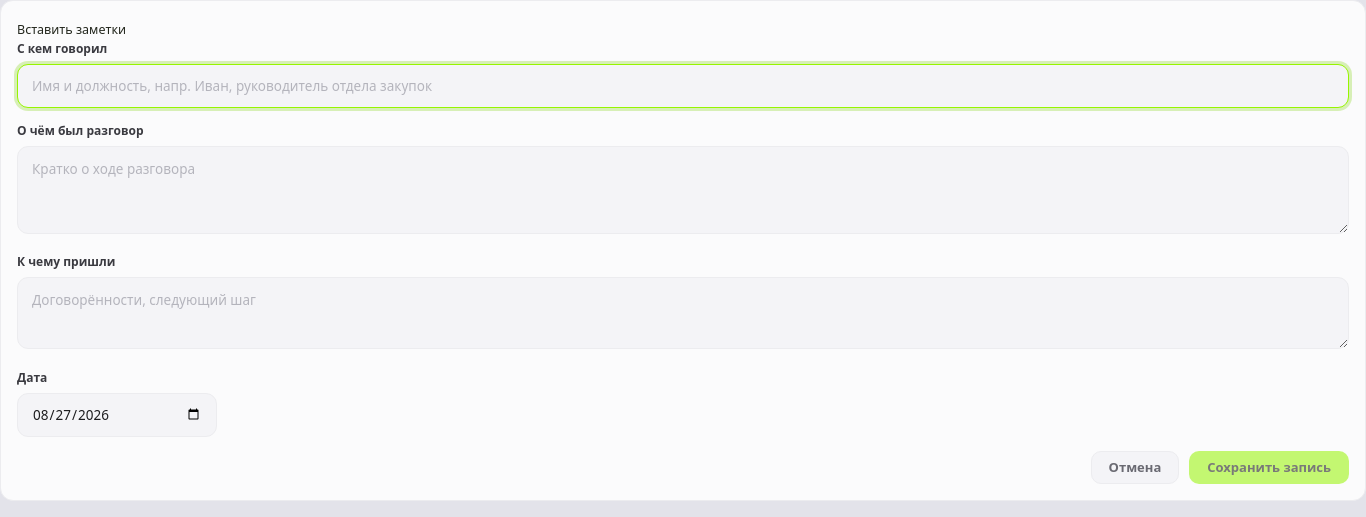
Test: CallLogForm › disables save until the required 'С кем говорил' field has content
Expected: the button "Сохранить запись" is disabled, [1189,451,1349,484]
Type "Иван" into the field with placeholder "Имя и должность, напр. Иван, руководитель отдела закупок" at (683, 86), box [17,64,1349,108]
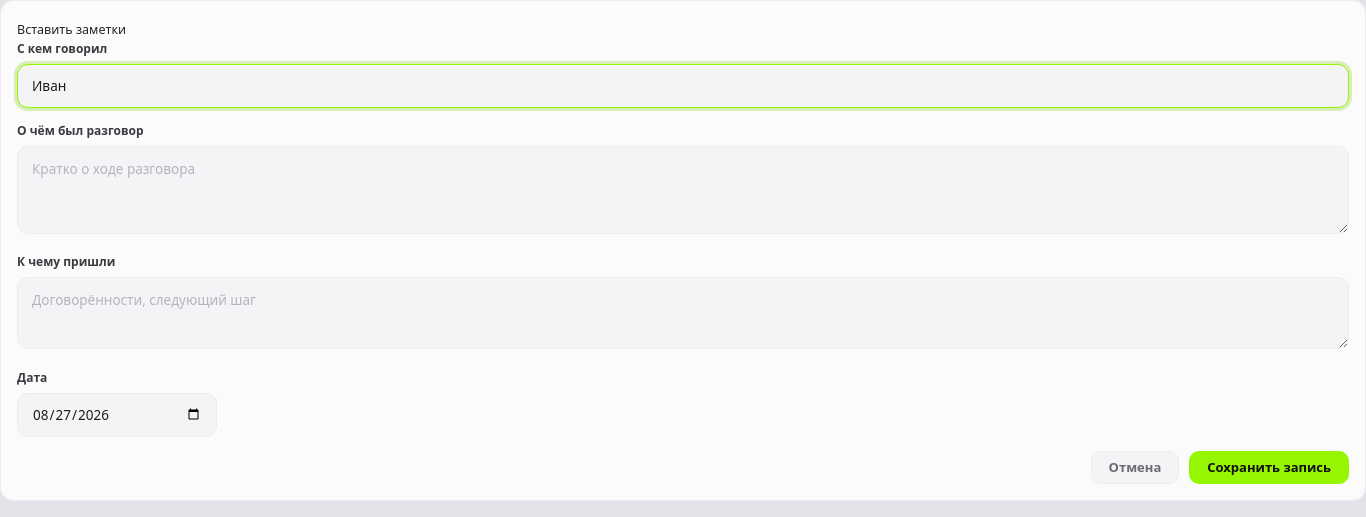
Expected: the button "Сохранить запись" is enabled, [1189,451,1349,484]
